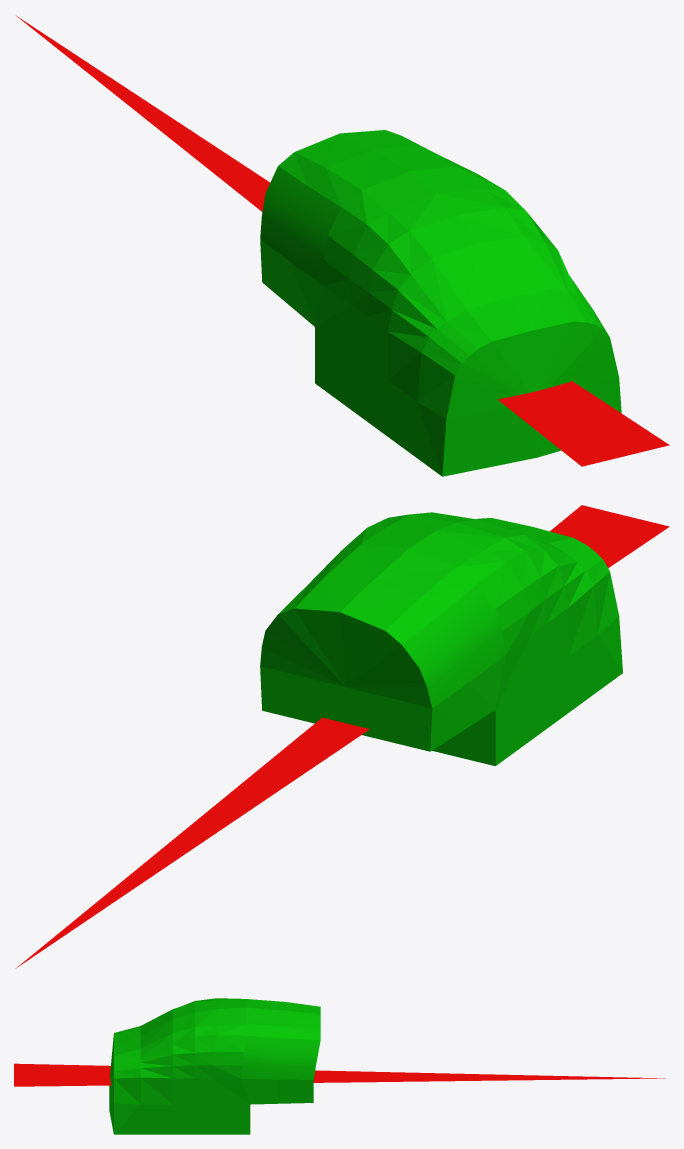
File: DR400_cockpit_LYCOMING_LOD06.gltf
3 renders of one model, top to bottom at view 1: azimuth 30°, elevation 25°; view 2: azimuth 150°, elevation 25°; view 3: azimuth 270°, elevation 25°, orthographic. The views are drawn at different scales.
Visible parts, largest first — view 1: Occluder, cockpit; view 2: Occluder, cockpit; view 3: Occluder, cockpit.
Part boxes in pixels (box(x1,y1,x2,y2)): Occluder: box(260, 130, 621, 476); cockpit: box(16, 15, 669, 466); Occluder: box(260, 512, 622, 766); cockpit: box(15, 505, 669, 968); Occluder: box(109, 998, 320, 1134); cockpit: box(14, 1063, 665, 1086).
Bounding box in the file's own units: 1.16 × 1.16 × 6.69.
